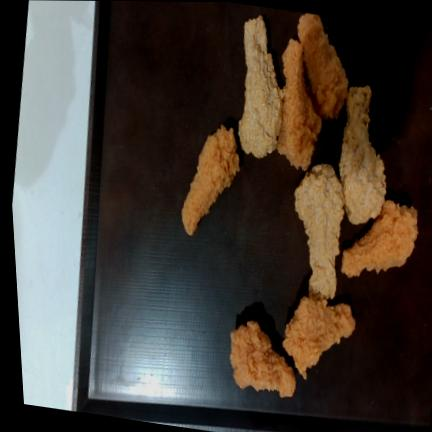chicken: (294, 163, 343, 298), (338, 86, 385, 223), (181, 125, 239, 235), (238, 16, 282, 157), (282, 296, 354, 379), (341, 200, 417, 277), (276, 39, 321, 169), (297, 13, 347, 118), (230, 321, 295, 397)
